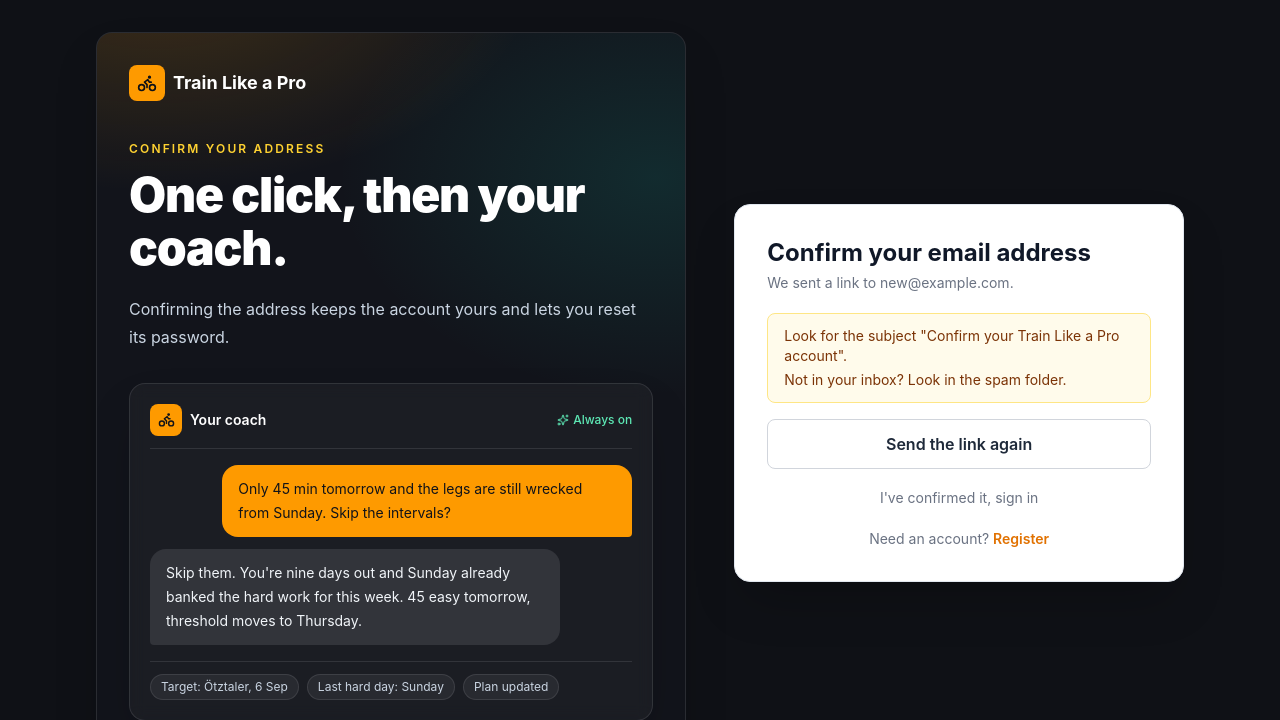
Scenario: LoginPage › brings the form back, filled in, once the athlete says the address is confirmed
Step 1. Click the button "I've confirmed it, sign in" → click(959, 498), box [767,488,1151,508]
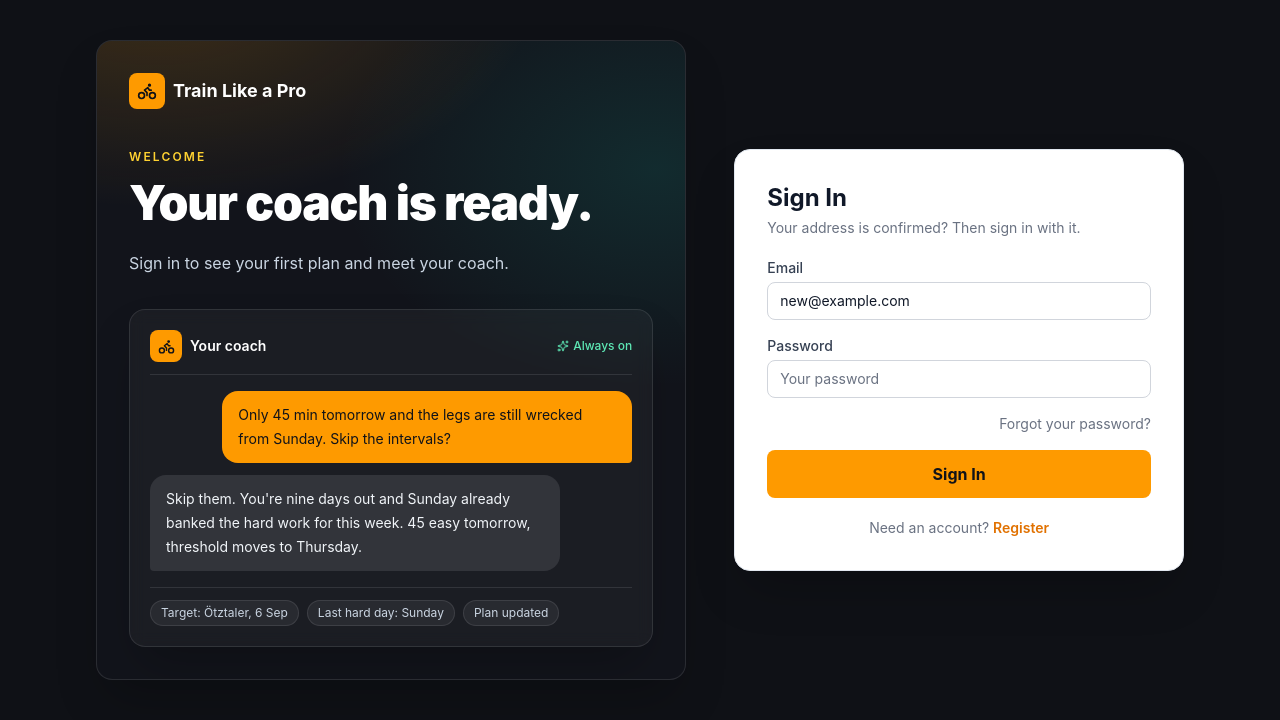
Expected: the field with placeholder "you@example.com" holds "new@example.com", [767,282,1151,320]
Expected: the button "Sign In" is shown, [767,450,1151,498]
Expected: the text "Your address is confirmed? Then sign in with it." is shown, [767,219,1081,236]
